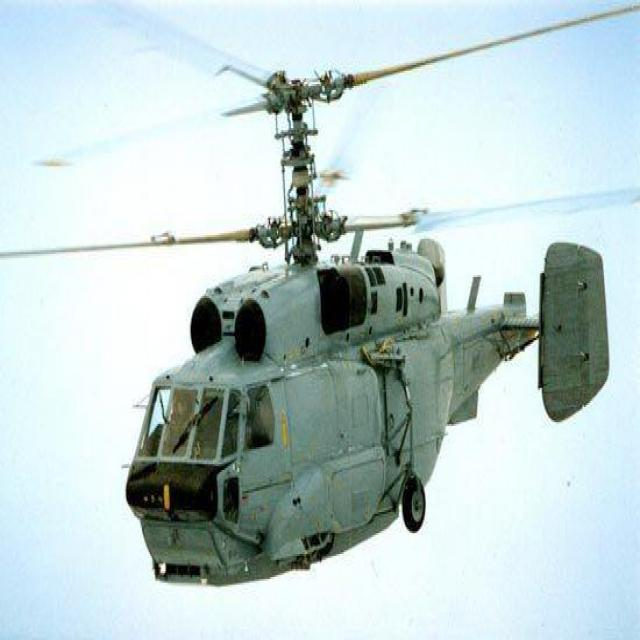MIL_HELO: (0, 0, 640, 587)
